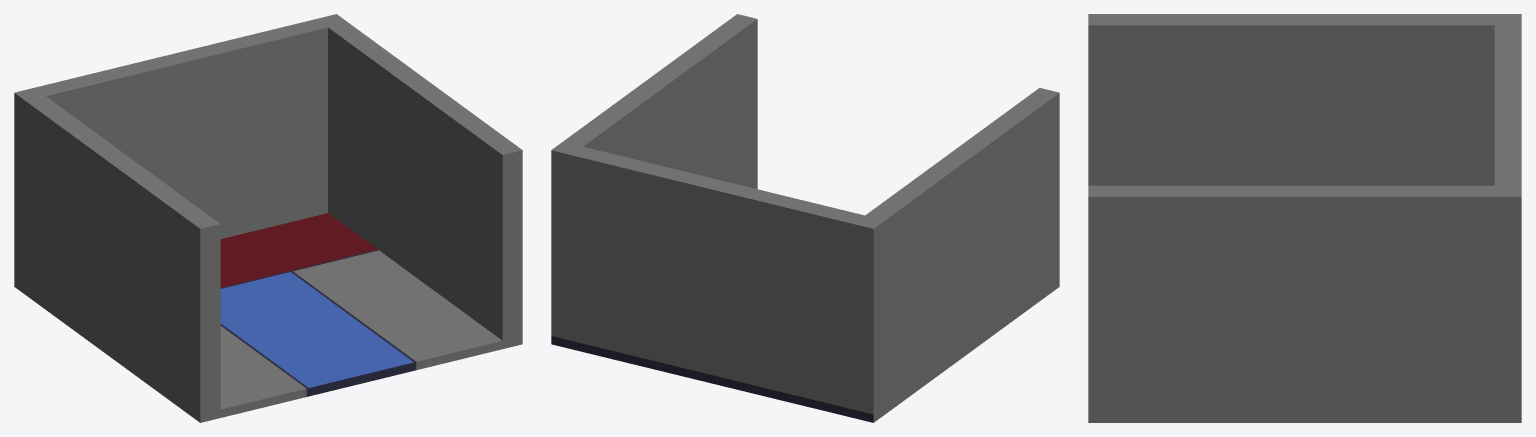
The model's file is Path_End.glb.
The picture shows the model from 3 angles, left to right: view 1: azimuth 30°, elevation 25°; view 2: azimuth 150°, elevation 25°; view 3: azimuth 270°, elevation 25°; orthographic projection. The views are drawn at different scales.
Visible parts, largest first — view 1: Path_End; view 2: Path_End; view 3: Path_End.
Part boxes in pixels (x1,y1,x2,y2): Path_End: (14, 14, 522, 422); Path_End: (551, 14, 1059, 422); Path_End: (1088, 14, 1521, 422).
Bounding box in the file's own units: 8 × 4.6 × 8.
